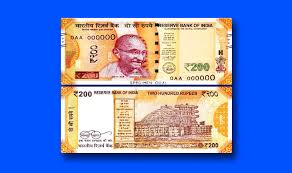twoHundred: (73, 30, 216, 75)
